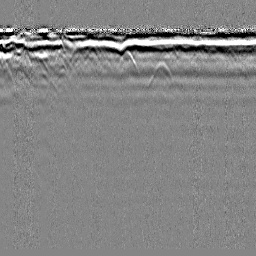cavity: (115, 49, 139, 70)
